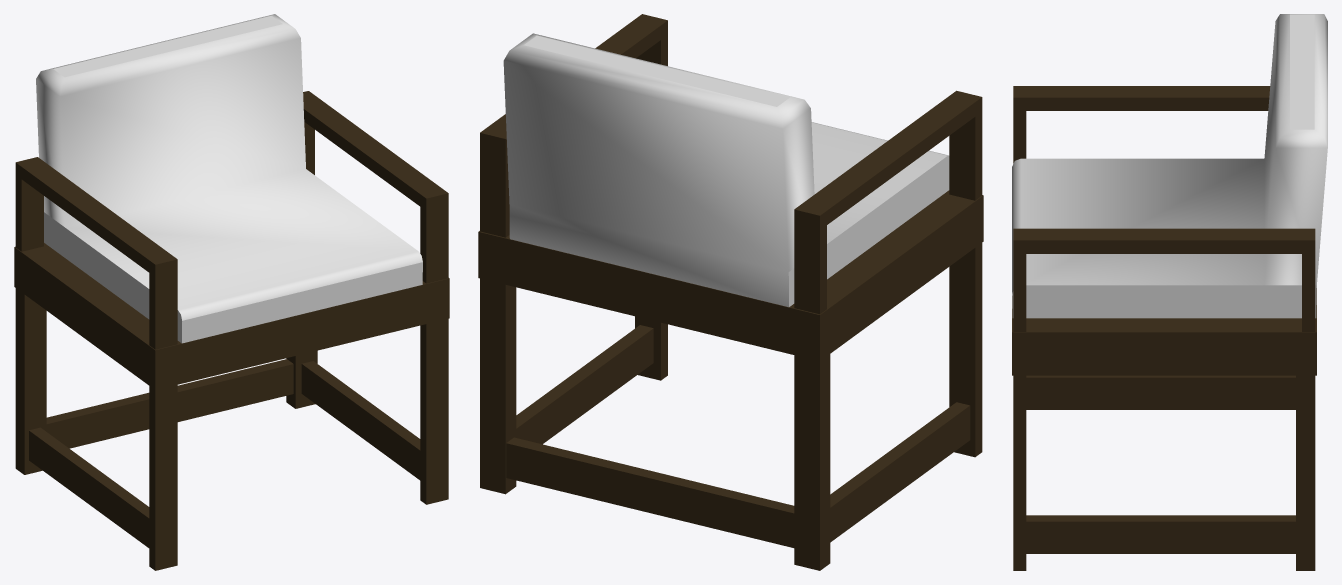
File: chair-b.glb
3 views of the same model, side by side, from view 1: azimuth 30°, elevation 25°; view 2: azimuth 150°, elevation 25°; view 3: azimuth 270°, elevation 25° (orthographic). The views are drawn at different scales.
Visible parts, largest first — view 1: Chair_B; view 2: Chair_B; view 3: Chair_B.
Boxes of the visible parts, left/top/right/bottom form: Chair_B: left=14, top=14, right=449, bottom=570; Chair_B: left=478, top=14, right=983, bottom=570; Chair_B: left=1012, top=14, right=1327, bottom=570.
Bounding box in the file's own units: 0.7205 × 0.9134 × 0.6198.
1 material, 1 textured.
